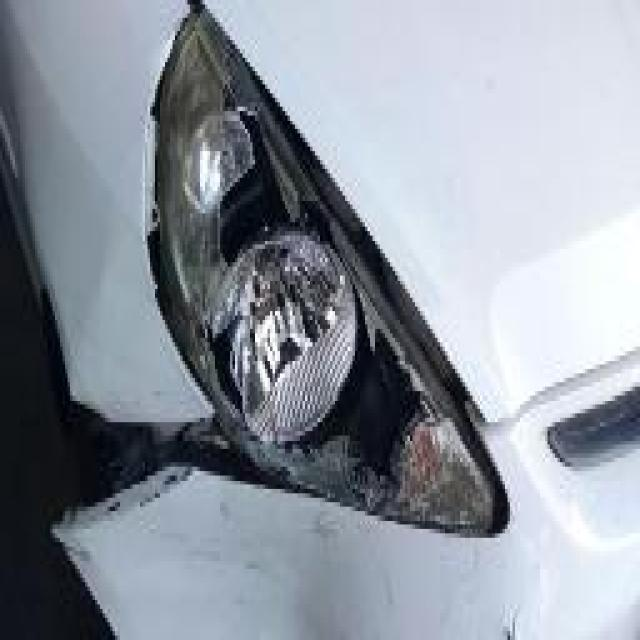Light: (141, 3, 501, 544)
